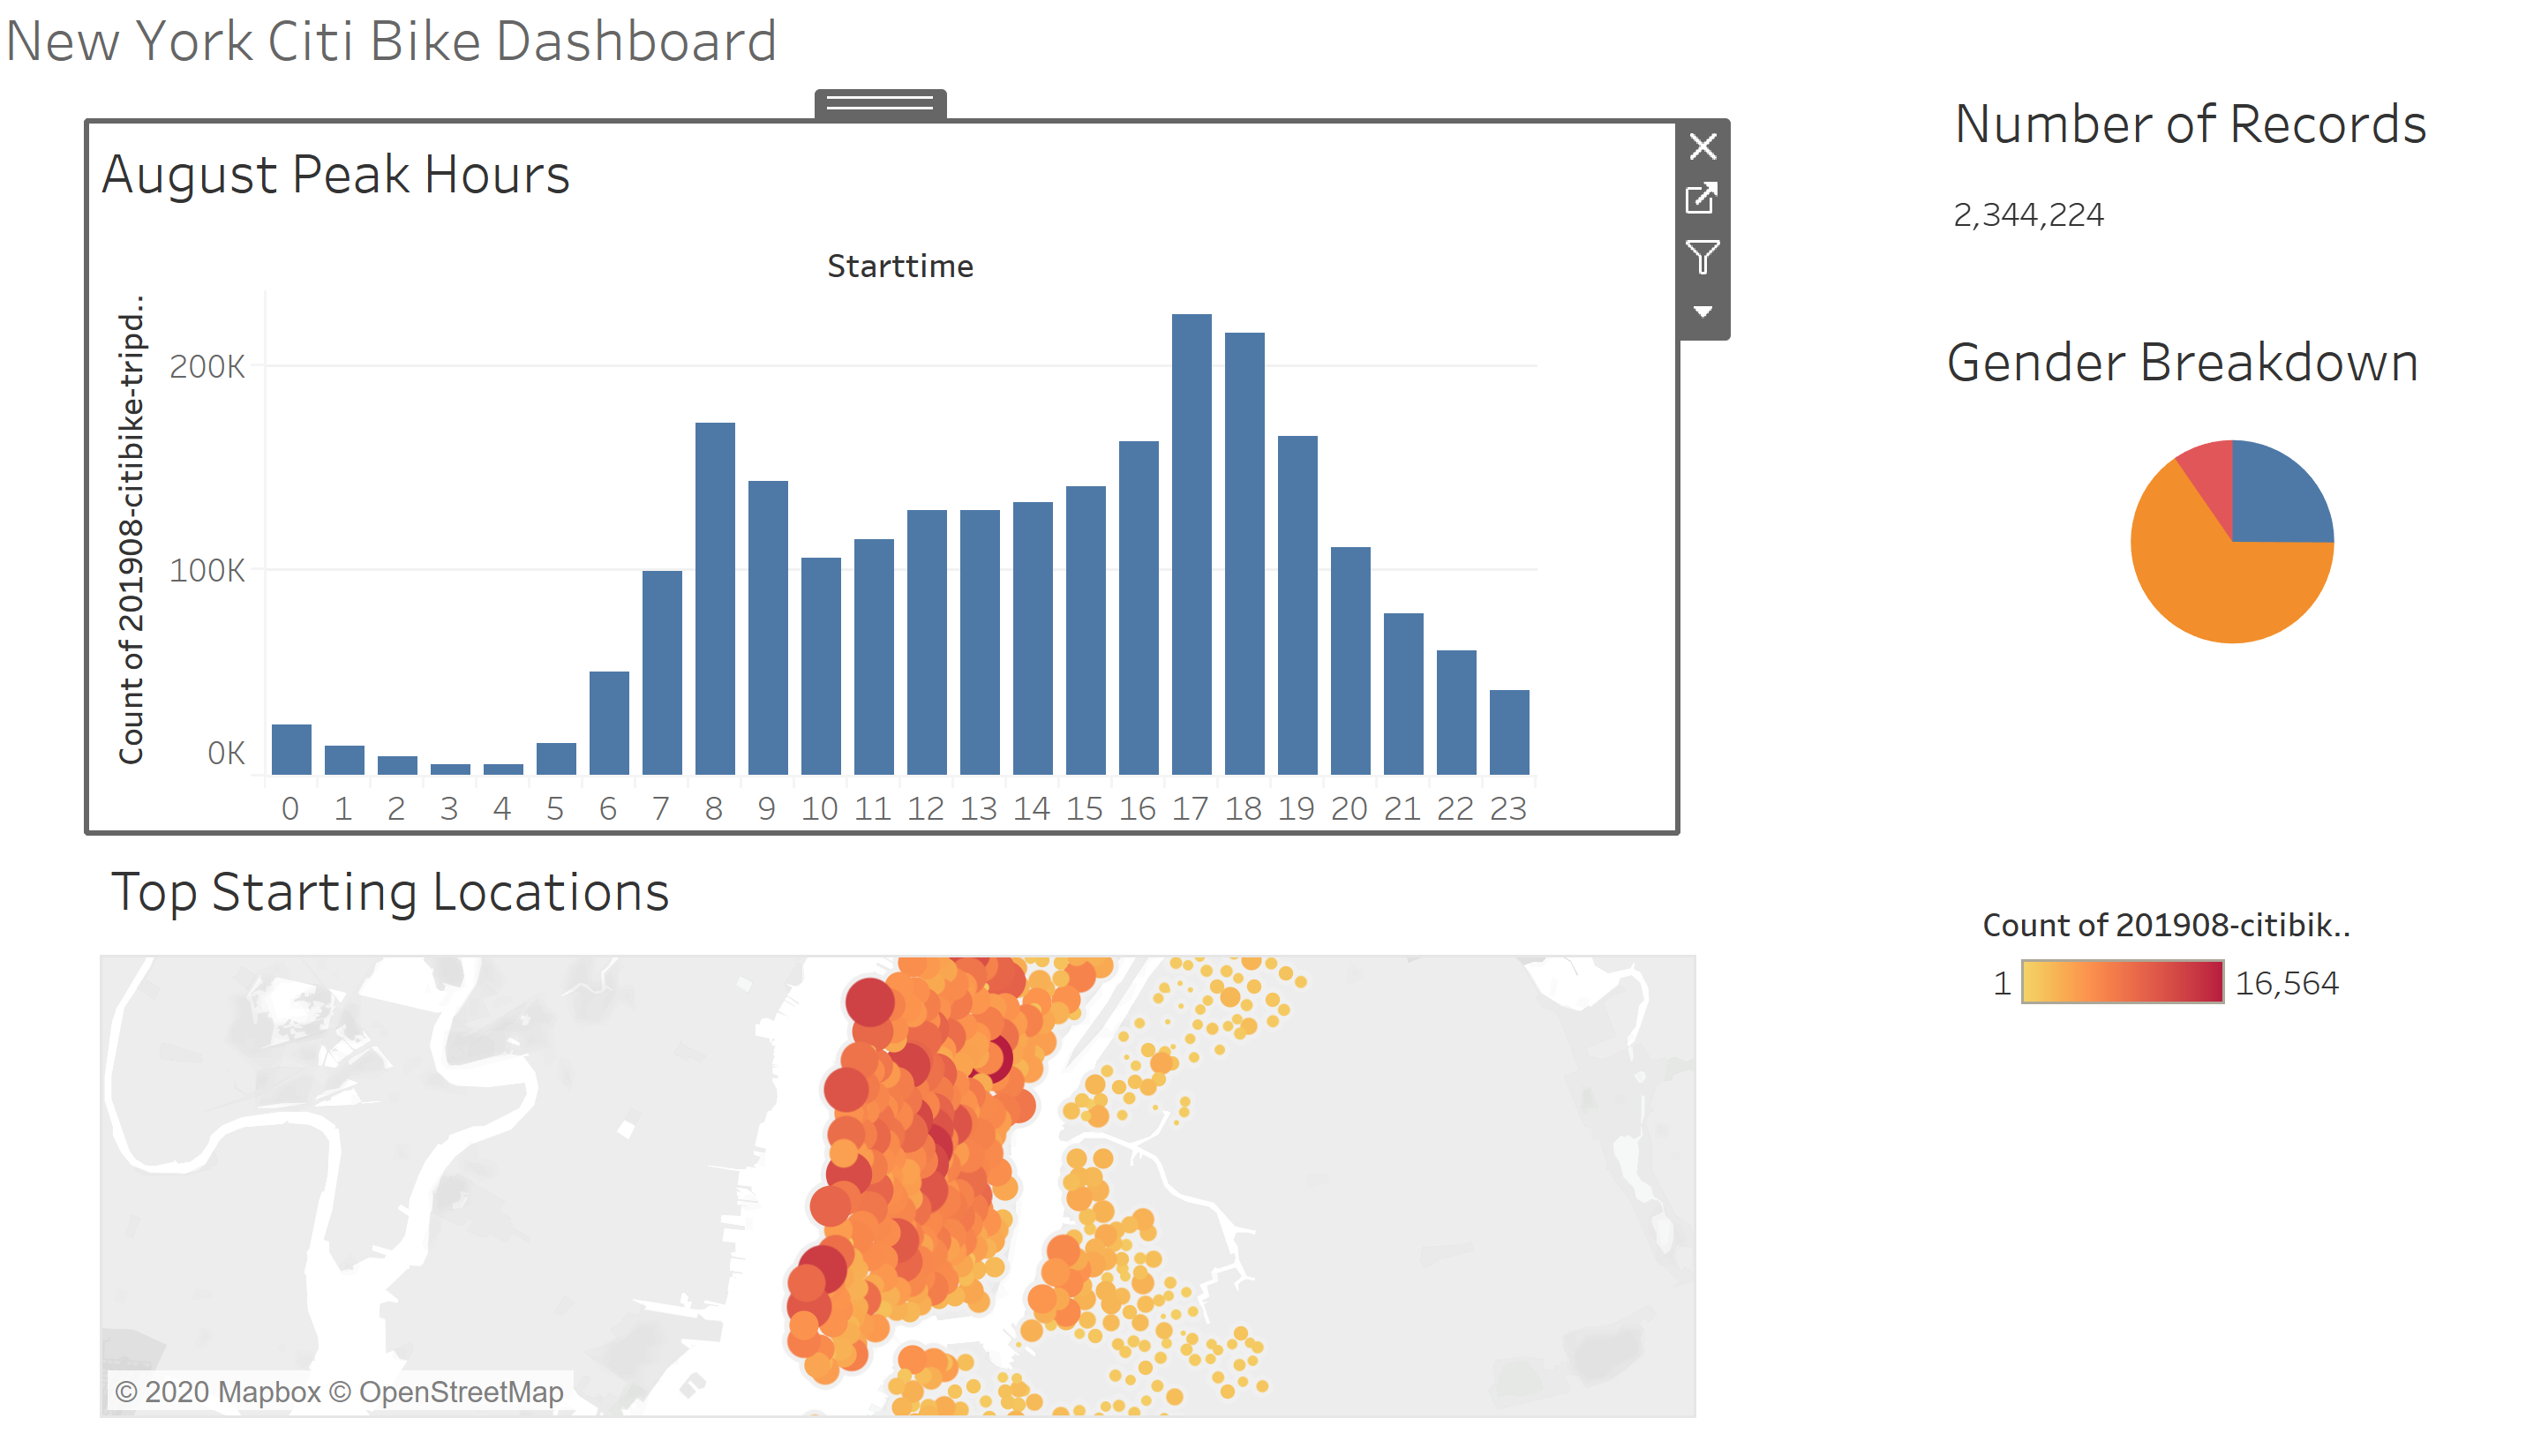

The dashboard page shown, as its layout file describes it:
{"tool":"tableau","page":{"name":"NYC City Bike","canvas":[1000,800],"ordinal":1},"visuals":[{"type":"worksheet","box":[3,5,298,30]},{"type":"worksheet","title":"Number of Records","mark":"Text","box":[738,34,204,62]},{"type":"worksheet","title":"August Peak Hours ","mark":"Bar","rows":["201908-citibike-tripdata.csv_DC8B5AF58A1C487FB9F466AEDDBD8D3"],"cols":["starttime"],"box":[38,53,599,267]},{"type":"worksheet","title":"Gender Breakdown","mark":"Pie","box":[735,124,225,131]},{"type":"worksheet","title":"Top Starting Locations","mark":"Automatic","rows":["start station latitude"],"cols":["start station longitude"],"box":[42,324,603,218]},{"type":"worksheet","title":"Top Starting Locations","mark":"Automatic","rows":["start station latitude"],"cols":["start station longitude"],"param":"[federated.08ae3yu1dk61hu149uptq0j3qisz].[__tableau_internal_object_id__].[cnt:2","box":[753,347,140,76]}]}

Visuals, with their boxes on the page's 1000x800 design canvas (x1, y1, x2, y2). These are canvas units, not pixel positions in the 2541x1456 screenshot, which may show the page scaled, cropped or inside an application window:
worksheet: <box>3,5,301,35</box>
"Number of Records" worksheet (Text marks): <box>738,34,942,96</box>
"August Peak Hours " worksheet (Bar marks): <box>38,53,637,320</box>
"Gender Breakdown" worksheet (Pie marks): <box>735,124,960,255</box>
"Top Starting Locations" worksheet: <box>42,324,645,542</box>
"Top Starting Locations" worksheet: <box>753,347,893,423</box>
